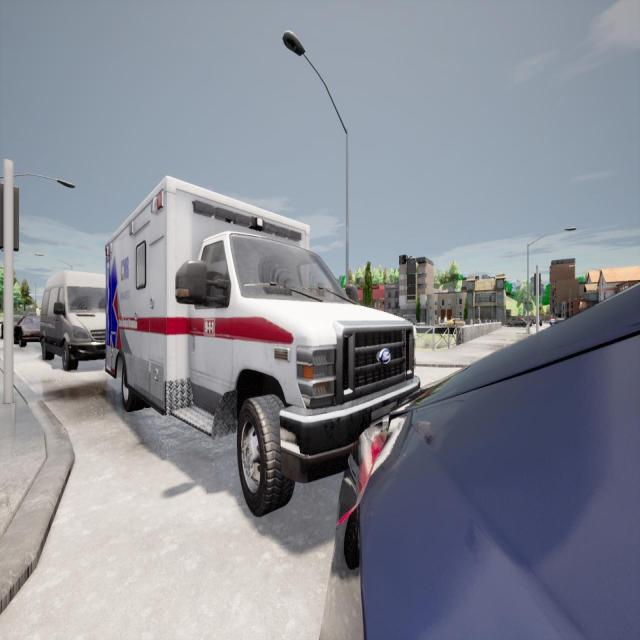Vehicle: (320, 283, 639, 640), (101, 178, 421, 517), (41, 272, 107, 370), (2, 310, 40, 346), (445, 317, 467, 330), (508, 315, 528, 328), (530, 314, 543, 326)
traffic_light: (0, 183, 21, 254), (534, 273, 541, 296)
